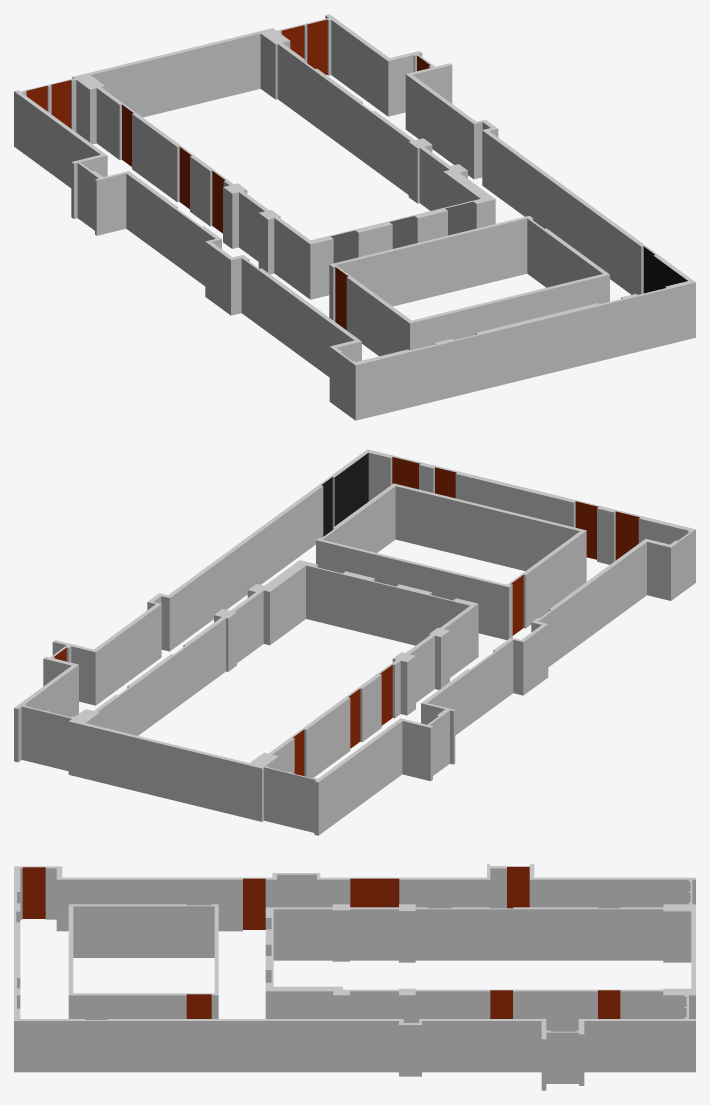
Rendered from Boyd_1st_floor_in_feet.dae.
The picture shows the model from 3 angles, top to bottom: view 1: azimuth 30°, elevation 25°; view 2: azimuth 150°, elevation 25°; view 3: azimuth 270°, elevation 25°; orthographic projection. The views are drawn at different scales.
Parts seen in each view (by area): view 1: SketchUp (×22); view 2: SketchUp (×20); view 3: SketchUp (×18).
Part boxes in pixels (x1=…): SketchUp (×22): x1=14, y1=14, x2=695, y2=420; SketchUp (×20): x1=14, y1=449, x2=695, y2=835; SketchUp (×18): x1=14, y1=864, x2=695, y2=1090.
Bounding box in the file's own units: 612 × 1008 × 84.
